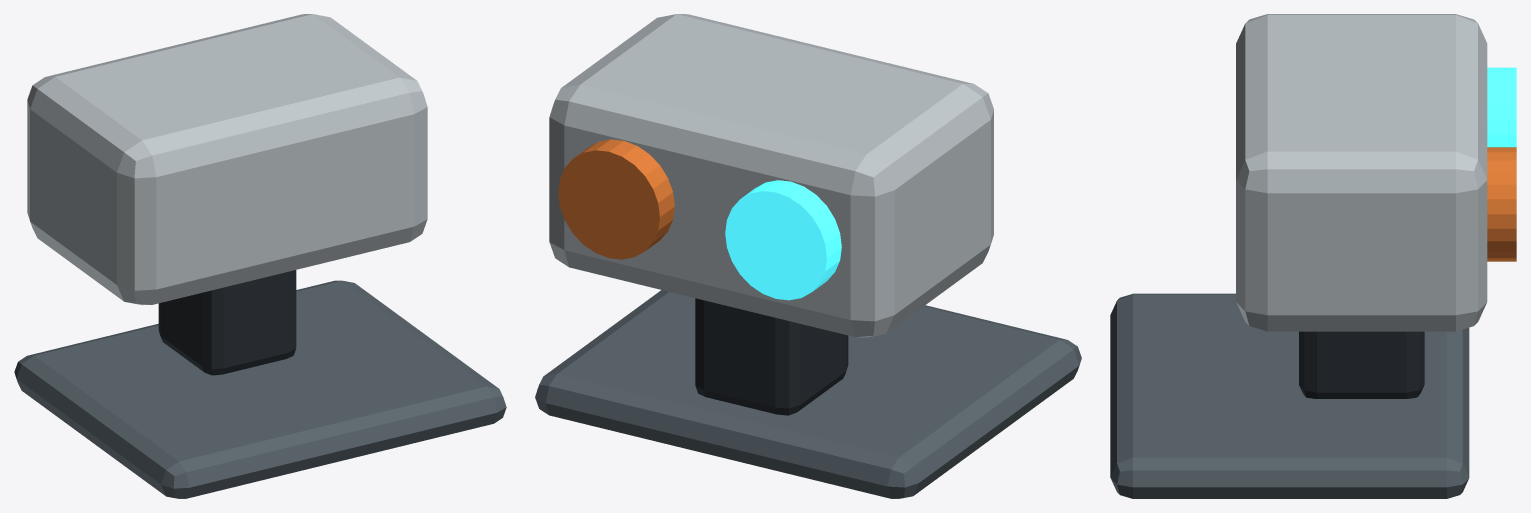
File: camera-payload.glb
The picture shows the model from 3 angles, left to right: view 1: azimuth 30°, elevation 25°; view 2: azimuth 150°, elevation 25°; view 3: azimuth 270°, elevation 25°; orthographic projection. The views are drawn at different scales.
Visible parts, largest first — view 1: Dual light housing, Camera mounting plate, Camera pedestal; view 2: Dual light housing, Camera mounting plate, Camera pedestal, Thermal lens, RGB lens; view 3: Dual light housing, Camera mounting plate, Camera pedestal, Thermal lens, RGB lens.
Part boxes in pixels (bbox=[...]): Dual light housing: bbox=[27, 14, 427, 305]; Camera mounting plate: bbox=[14, 280, 506, 498]; Camera pedestal: bbox=[158, 270, 296, 375]; Dual light housing: bbox=[549, 14, 993, 337]; Camera mounting plate: bbox=[535, 290, 1081, 498]; Camera pedestal: bbox=[695, 298, 848, 415]; Thermal lens: bbox=[558, 139, 674, 259]; RGB lens: bbox=[725, 180, 841, 300]; Dual light housing: bbox=[1236, 14, 1487, 331]; Camera mounting plate: bbox=[1110, 293, 1469, 498]; Camera pedestal: bbox=[1299, 331, 1424, 398]; Thermal lens: bbox=[1487, 147, 1516, 261]; RGB lens: bbox=[1487, 67, 1516, 147].
Bounding box in the file's own units: 0.48 × 0.41 × 0.4525.
